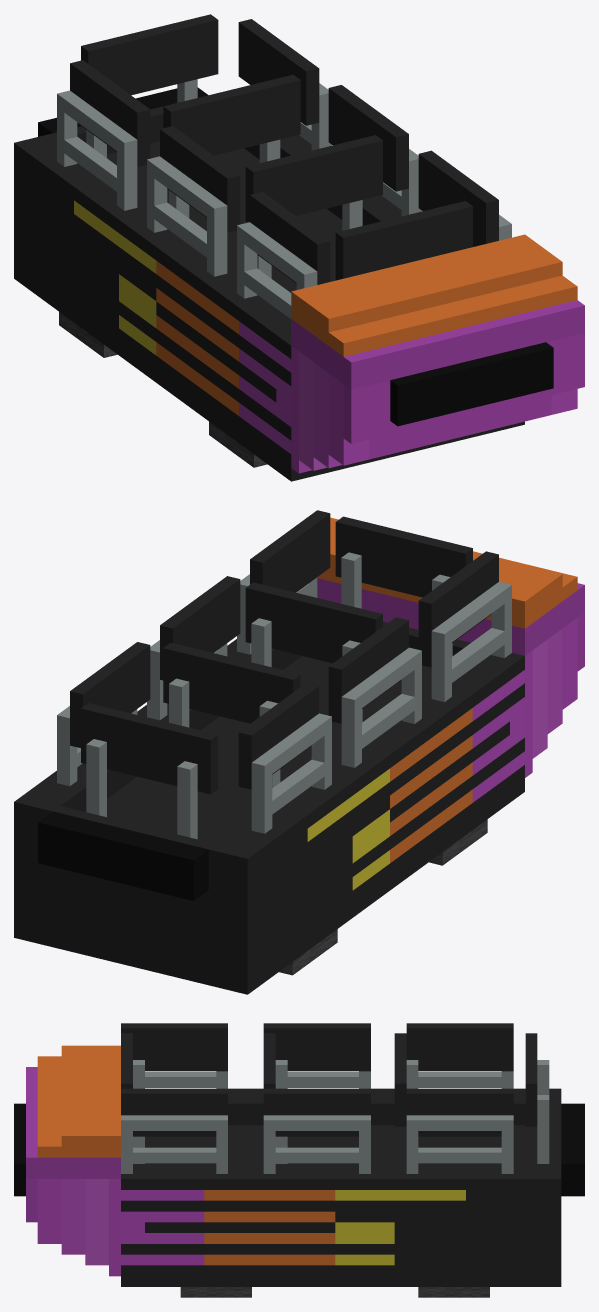
Rendered from roller_coaster_cart.glb.
The picture shows the model from 3 angles, top to bottom: view 1: azimuth 30°, elevation 25°; view 2: azimuth 150°, elevation 25°; view 3: azimuth 270°, elevation 25°; orthographic projection. The views are drawn at different scales.
Visible parts, largest first — view 1: cube_93, cube_92, cube_41, cube_109, cube_102, cube_105, cube_111, cube_35, cube_94, cube_98, cube_88, cube_71 (+50 smaller); view 2: cube_56, cube_108, cube_41, cube_88, cube_111, cube_35, cube_102, cube_98, cube_105, cube_107, cube_69, cube_92 (+50 smaller); view 3: cube_15, cube_14, cube_93, cube_56, cube_87, cube_72, cube_18, cube_73, cube_74, cube_16, cube_70, cube_71 (+55 smaller).
Boxes of the visible parts, x1,y1,x2,y2 form: cube_93: (291, 234, 562, 345); cube_92: (291, 300, 584, 389); cube_41: (44, 161, 291, 358); cube_109: (390, 342, 553, 426); cube_102: (245, 135, 382, 222); cube_105: (163, 75, 300, 155); cube_111: (81, 14, 218, 95); cube_35: (44, 273, 317, 481); cube_94: (328, 275, 577, 356); cube_98: (335, 201, 472, 280); cube_88: (14, 136, 56, 300); cube_71: (238, 19, 319, 125); cube_56: (40, 656, 431, 988); cube_108: (38, 811, 208, 900); cube_41: (265, 653, 524, 849); cube_88: (221, 831, 277, 994); cube_111: (81, 703, 218, 794); cube_35: (277, 765, 524, 972); cube_102: (245, 582, 382, 663); cube_98: (335, 516, 472, 597); cube_105: (163, 643, 300, 723); cube_107: (53, 806, 215, 957); cube_69: (250, 510, 330, 592); cube_92: (317, 578, 584, 655); cube_15: (121, 1265, 513, 1286); cube_14: (121, 1169, 513, 1189); cube_93: (61, 1045, 120, 1157); cube_56: (145, 1125, 537, 1163); cube_87: (513, 1169, 561, 1286); cube_72: (406, 1023, 513, 1071); cube_18: (121, 1200, 513, 1211); cube_73: (263, 1023, 370, 1071); cube_74: (121, 1023, 227, 1071); cube_16: (121, 1244, 513, 1254); cube_70: (263, 1088, 370, 1136); cube_71: (406, 1088, 513, 1136).
Size of the model in its own units: 1.12 by 1.12 by 3.
6 materials, 6 textured.
